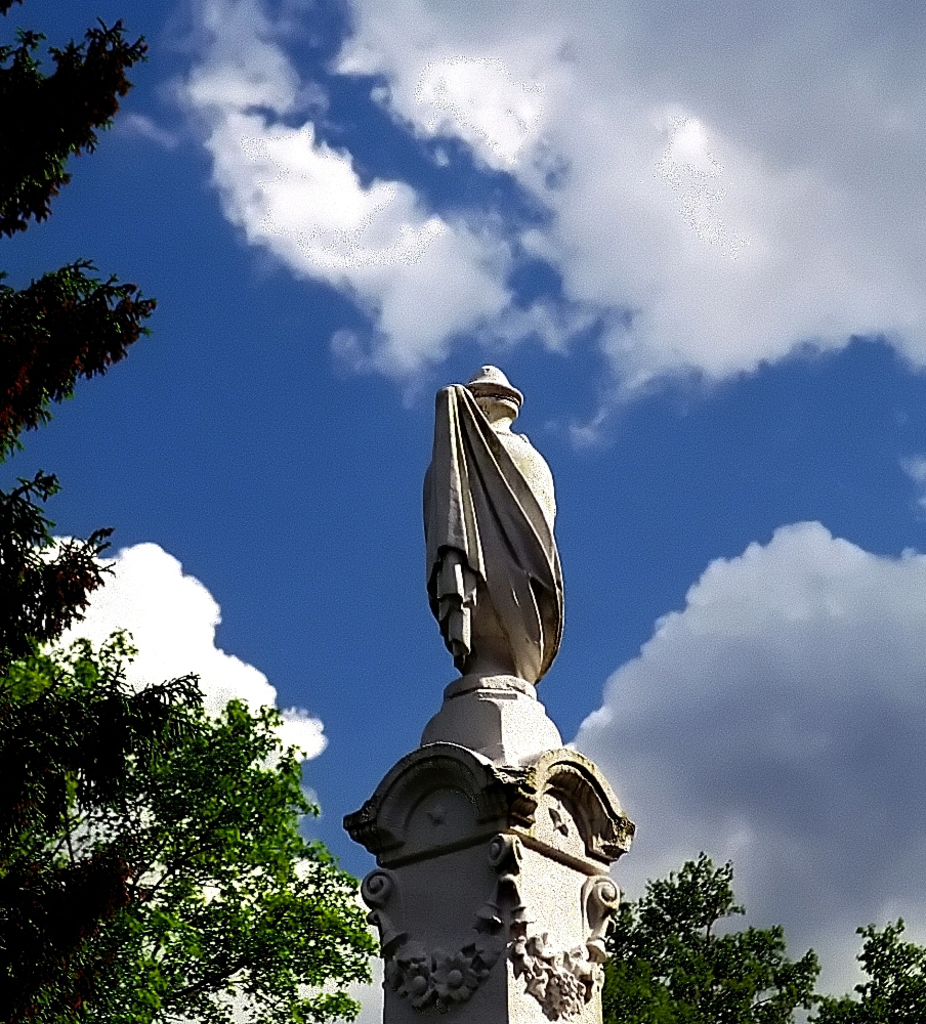Tree: (30, 567, 371, 1014), (0, 16, 147, 676), (597, 852, 924, 1022)
